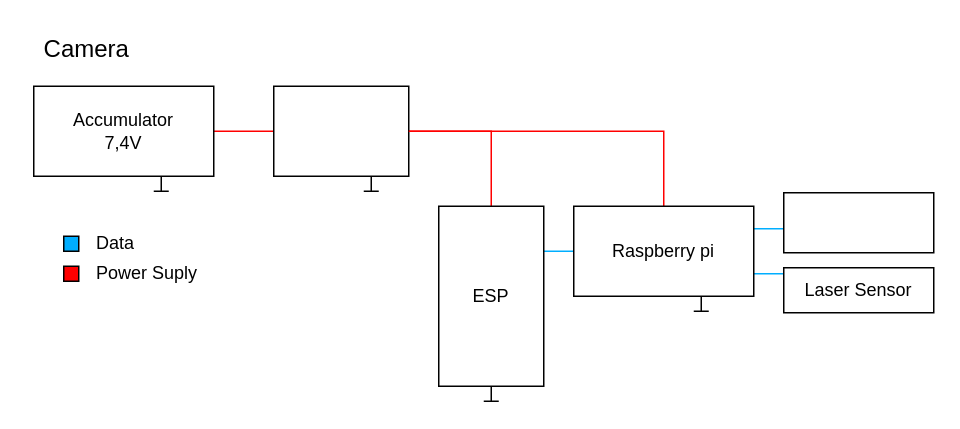
Image size: 960x429. Some labels were removed from this diagram. Here are the shapes that lost their labels. From the top down, the centre of each, then its label:
At (x=340, y=130): "Step Down Converter 5V".
At (x=858, y=222): "Raspberry pi Camera".
